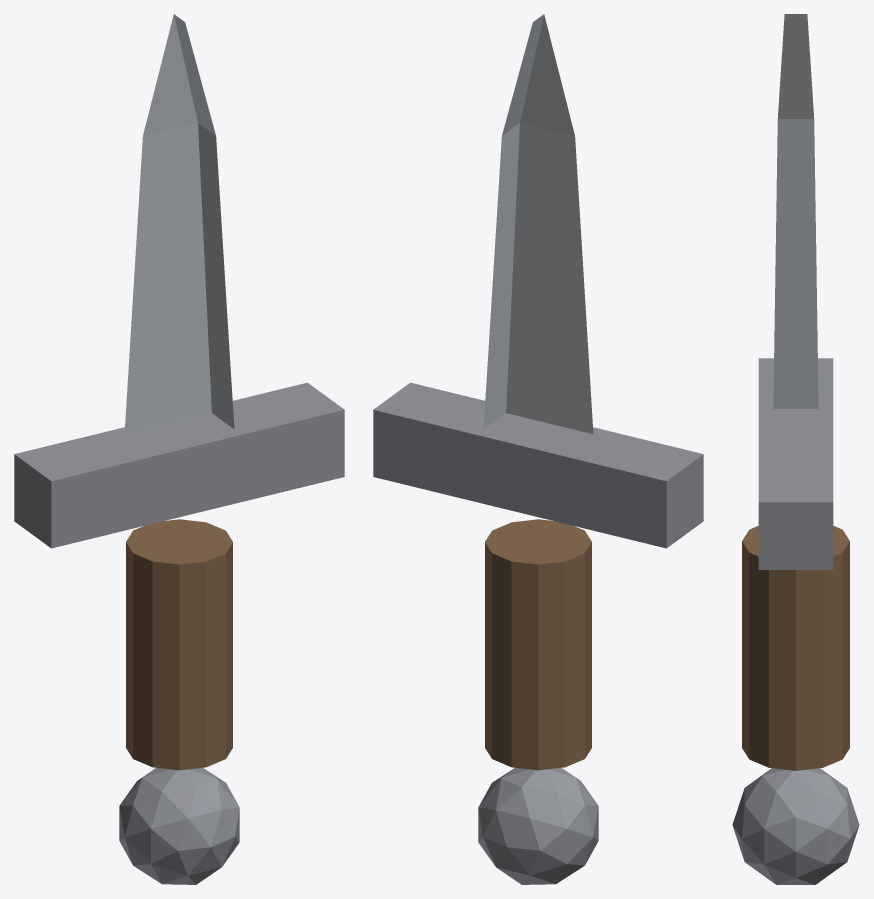
The model's file is dagger.glb.
3 renders of one model, left to right at view 1: azimuth 30°, elevation 25°; view 2: azimuth 150°, elevation 25°; view 3: azimuth 270°, elevation 25°, orthographic.
Visible parts, largest first — view 1: sword_0_1, sword_0_0, sword_0_2, sword_0_3; view 2: sword_0_1, sword_0_0, sword_0_2, sword_0_3; view 3: sword_0_2, sword_0_0, sword_0_1, sword_0_3.
Boxes of the visible parts, x1,y1,x2,y2 form: sword_0_1: (14, 382, 344, 548); sword_0_0: (124, 14, 234, 433); sword_0_2: (126, 519, 232, 770); sword_0_3: (119, 768, 239, 884); sword_0_1: (373, 382, 703, 548); sword_0_0: (483, 14, 593, 433); sword_0_2: (485, 519, 591, 770); sword_0_3: (478, 768, 598, 884); sword_0_2: (742, 526, 849, 770); sword_0_0: (773, 14, 818, 408); sword_0_1: (758, 358, 833, 569); sword_0_3: (732, 768, 859, 884).
Size of the model in its own units: 0.8217 by 2.31 by 0.3065.
